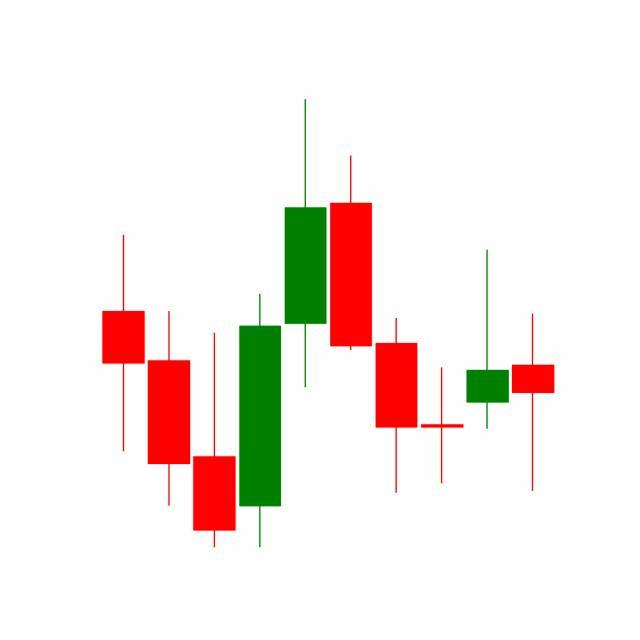Hikkake Pattern: (283, 99, 512, 499)
